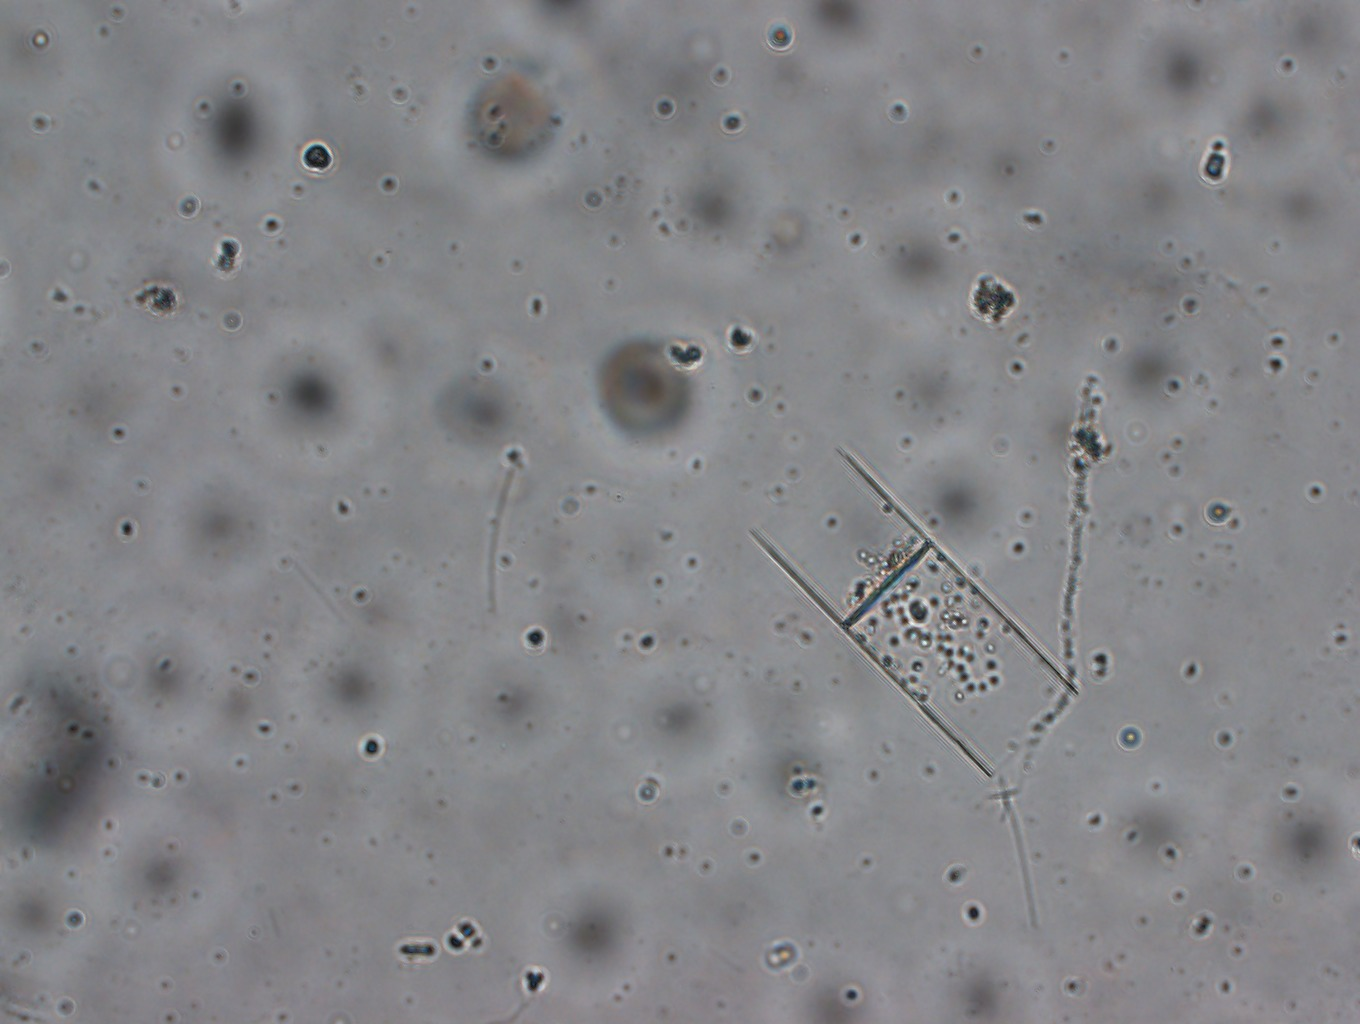guinardia flaccida: (736, 431, 1082, 783)
